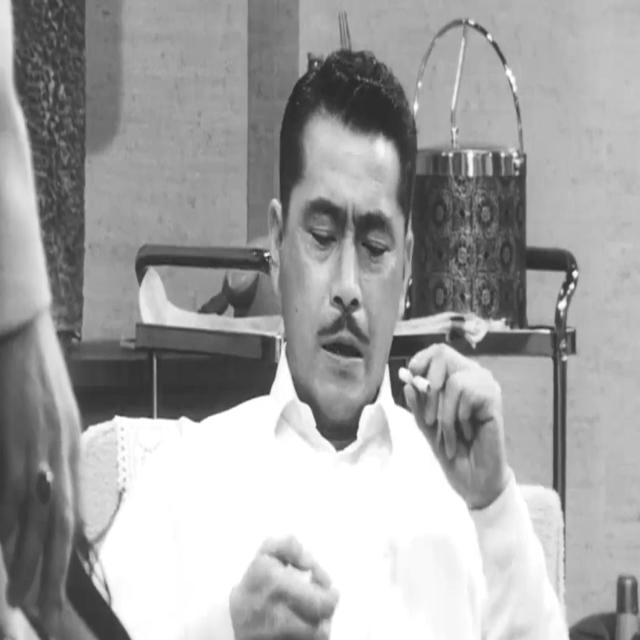Smooking: (395, 358, 435, 400)
